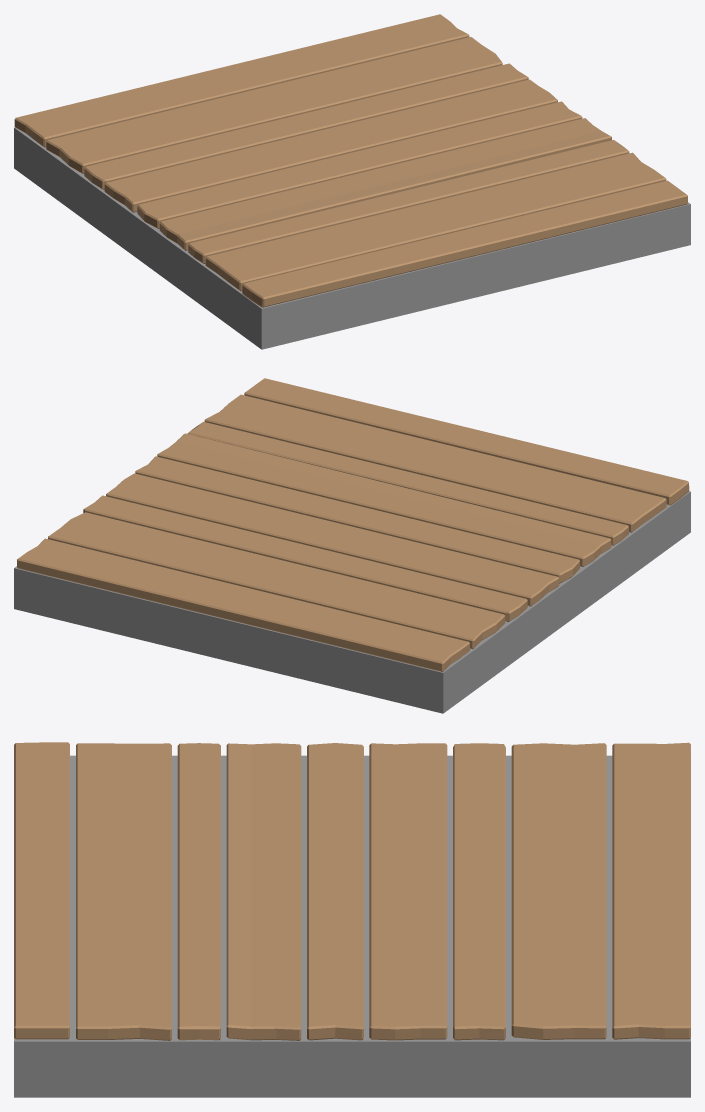
Rendered from Foundation A.fbx.
3 renders of one model, top to bottom at view 1: azimuth 30°, elevation 25°; view 2: azimuth 150°, elevation 25°; view 3: azimuth 270°, elevation 25°, orthographic. The views are drawn at different scales.
Visible parts, largest first — view 1: Foundation A; view 2: Foundation A; view 3: Foundation A.
Part boxes in pixels (x1,y1,x2,y2): Foundation A: [14, 14, 690, 349]; Foundation A: [14, 378, 690, 713]; Foundation A: [14, 742, 690, 1097].
Bounding box in the file's own units: 330 × 38.38 × 330.
